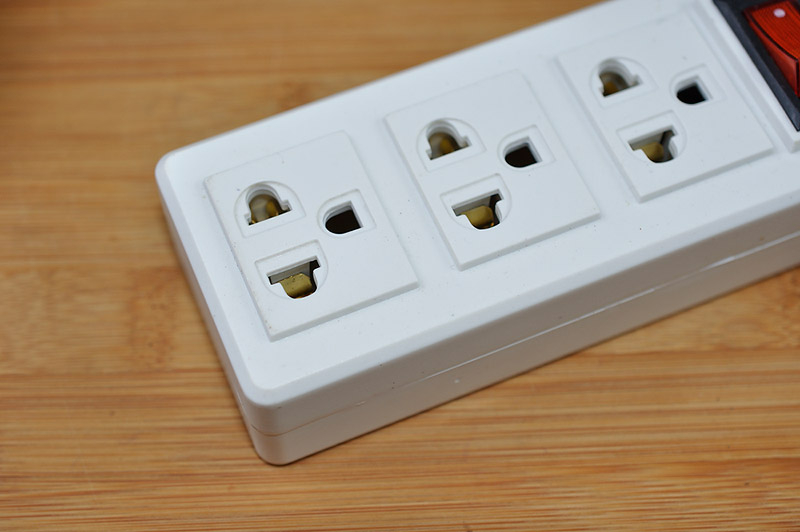Three_eye_plug: (142, 1, 800, 476)
